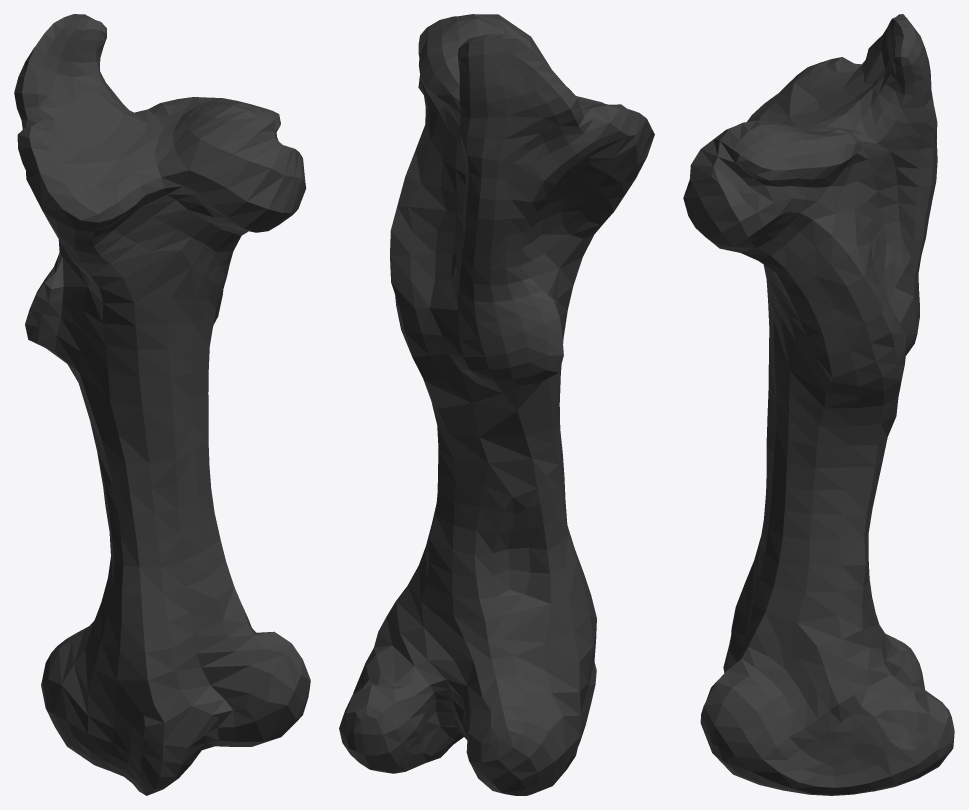
File: Femur_R.glb
3 renders of one model, left to right at view 1: azimuth 30°, elevation 25°; view 2: azimuth 150°, elevation 25°; view 3: azimuth 270°, elevation 25°, orthographic. The views are drawn at different scales.
Parts seen in each view (by area): view 1: Femur_R; view 2: Femur_R; view 3: Femur_R.
Boxes of the visible parts, left/top/right/bottom form: Femur_R: left=14, top=14, right=310, bottom=795; Femur_R: left=339, top=14, right=654, bottom=795; Femur_R: left=683, top=14, right=954, bottom=795.
Size of the model in its own units: 0.2139 by 0.6103 by 0.2036.
Materials: 1 (1 with a texture image).
